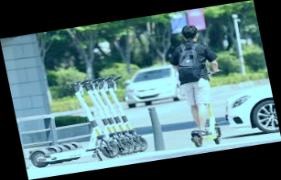nonhelmet: (160, 20, 235, 150)
